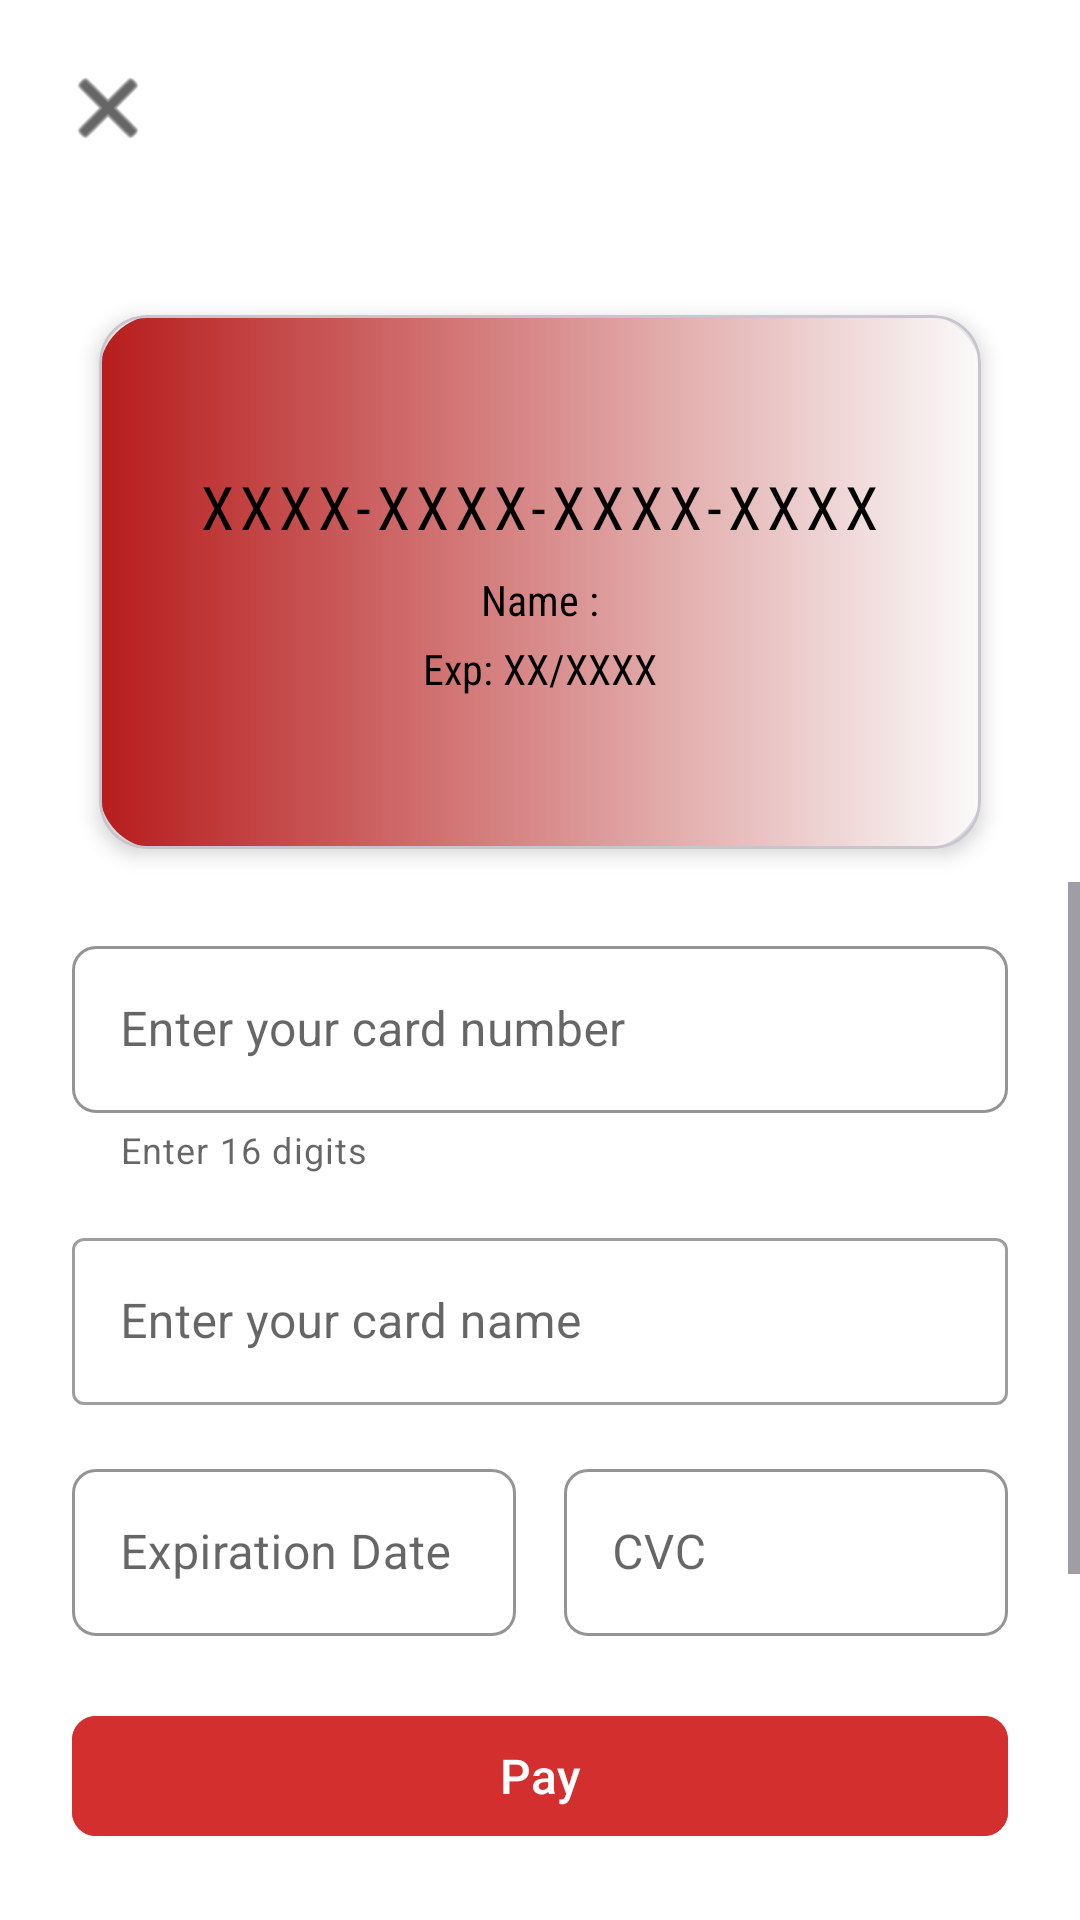

Where to tap for icons on this 1080×1920 app screen, as (x,y):
Close: (108,108)
